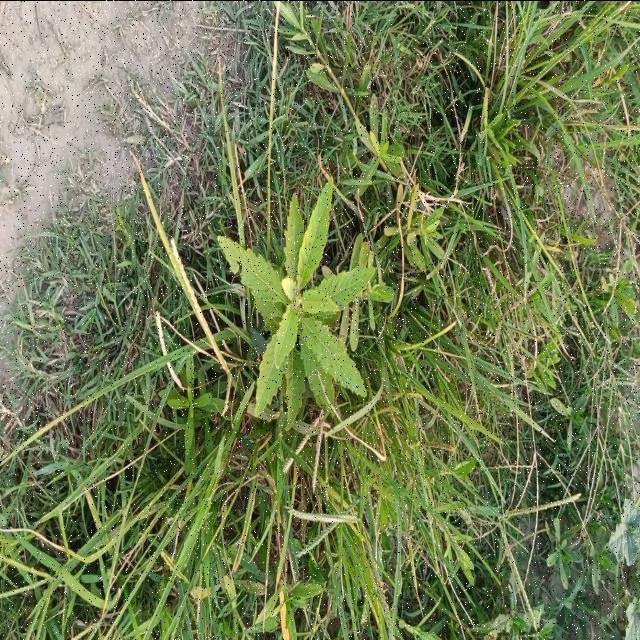weed: (218, 180, 375, 427)
